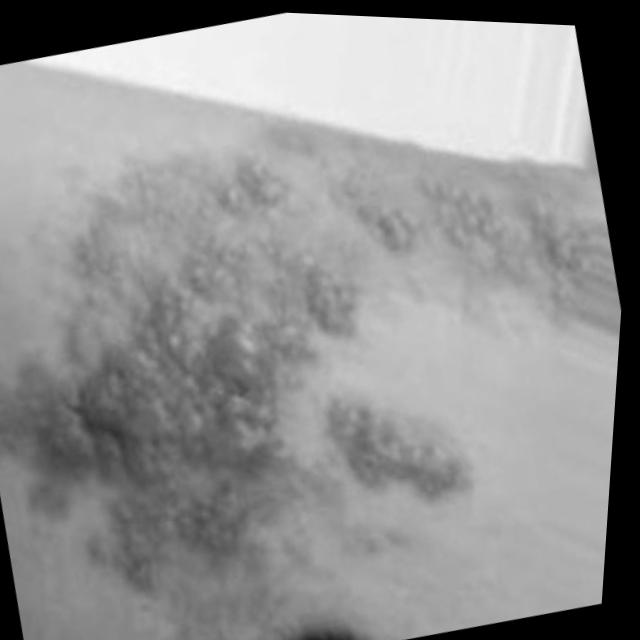Shingles: (0, 104, 633, 597)
